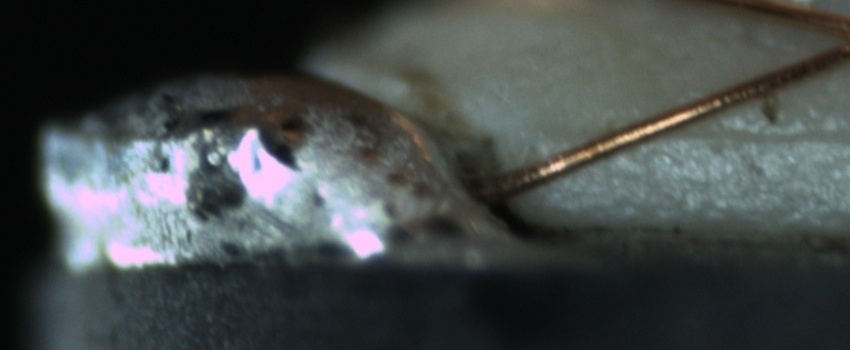DL: (616, 103, 846, 170)
